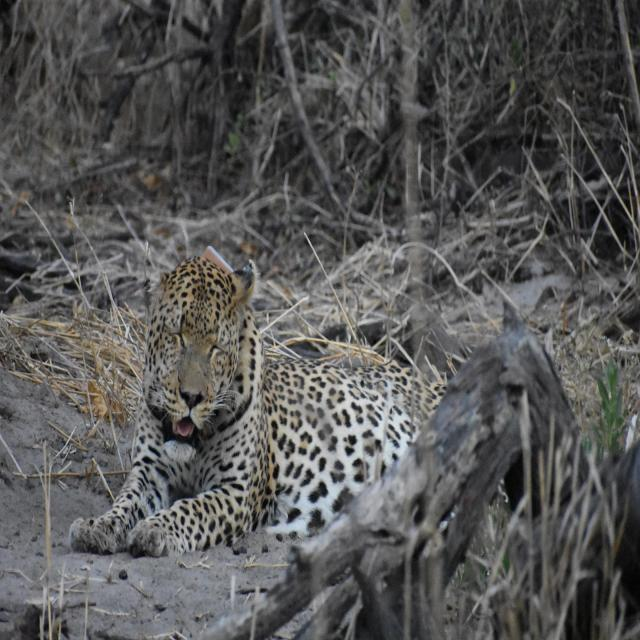Leopard: (73, 250, 530, 562)
